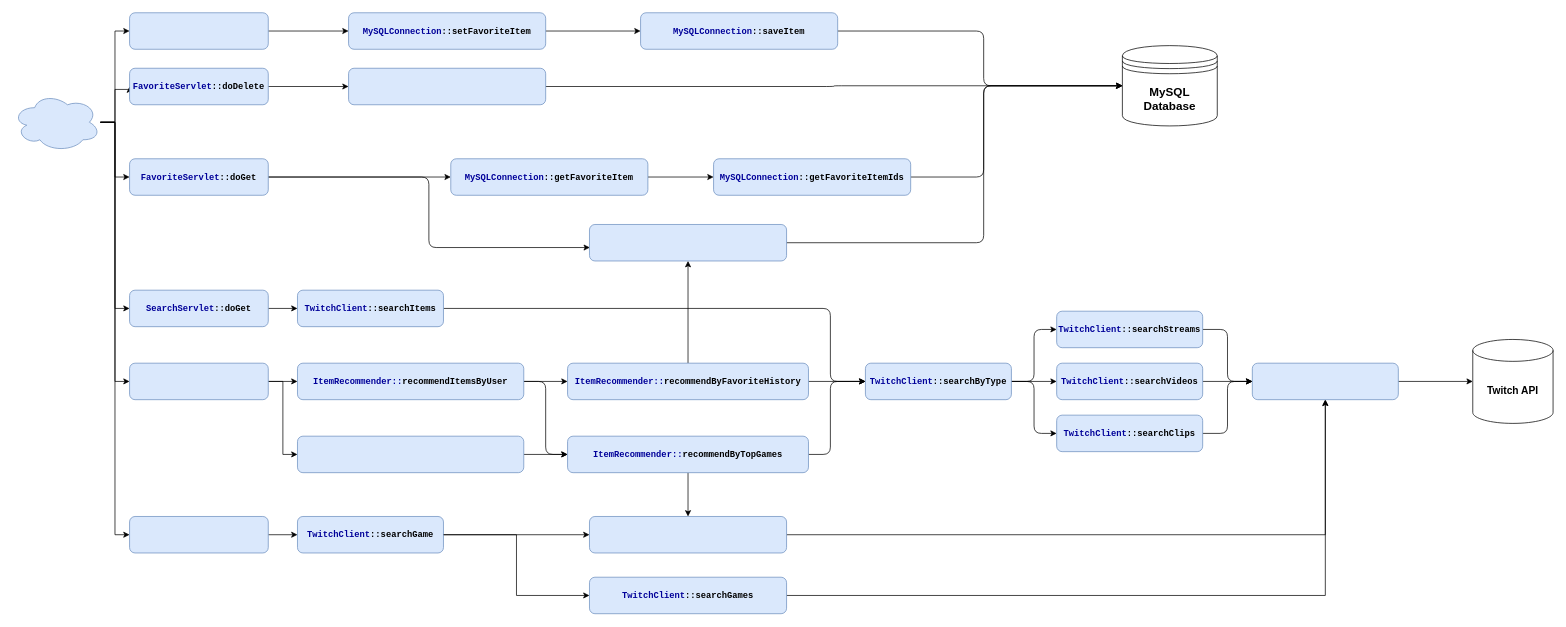
Some shapes in this 1566 by 627 pixel diagram are drawn without their labels. Each missing label, with the box of its shape:
Client: (12, 92, 100, 151)
FavoriteServlet ::doPost: (129, 12, 268, 49)
GameServlet ::doGet: (129, 516, 268, 553)
ItemRecommender:: recommendItemsByDefault: (297, 435, 524, 473)
MySQLConnection ::getFavoriteGameIds: (589, 224, 787, 261)
MySQLConnection ::unsetFavoriteItem: (348, 68, 546, 105)
RecommendServlet ::doGet: (129, 362, 268, 400)
TwitchClient ::searchTwitch: (1252, 362, 1398, 400)
TwitchClient ::topGames: (589, 516, 787, 553)
